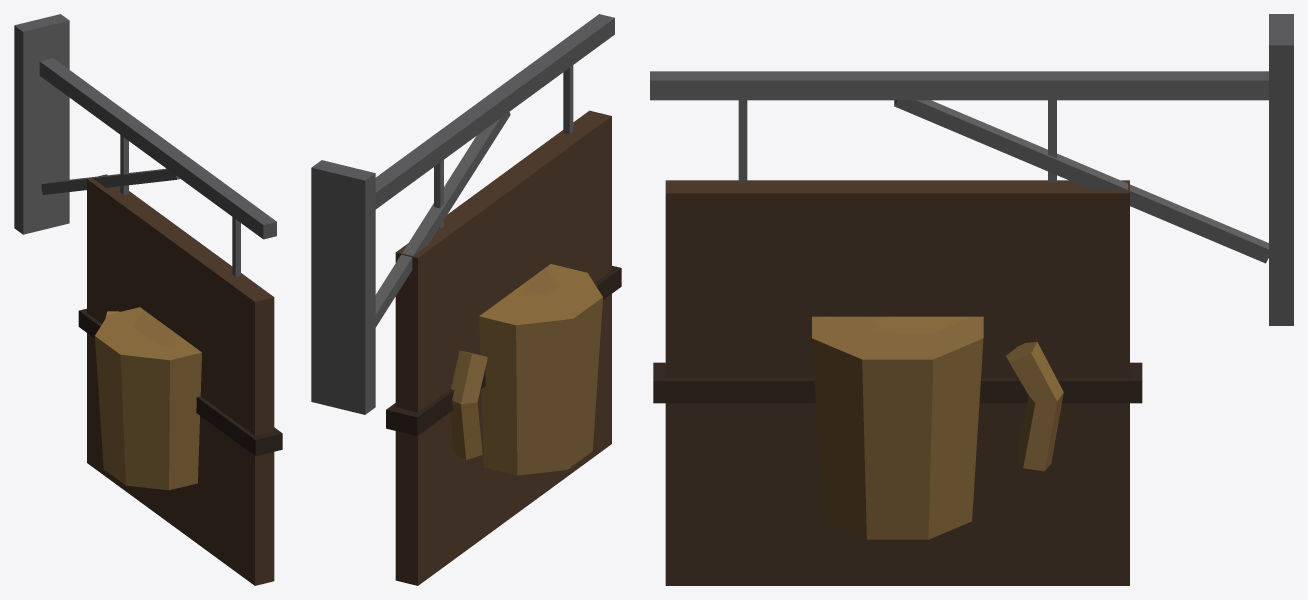
Rendered from walk_prop_sign_ale.glb.
The picture shows the model from 3 angles, left to right: view 1: azimuth 30°, elevation 25°; view 2: azimuth 150°, elevation 25°; view 3: azimuth 270°, elevation 25°; orthographic projection. The views are drawn at different scales.
Visible parts, largest first — view 1: walk_prop_sign_ale; view 2: walk_prop_sign_ale; view 3: walk_prop_sign_ale.
Boxes of the visible parts, x1,y1,x2,y2 form: walk_prop_sign_ale: (14, 14, 282, 585); walk_prop_sign_ale: (311, 14, 621, 585); walk_prop_sign_ale: (650, 14, 1293, 585).
Size of the model in its own units: 0.3772 by 0.98 by 1.04.
2 materials, 2 textured.
